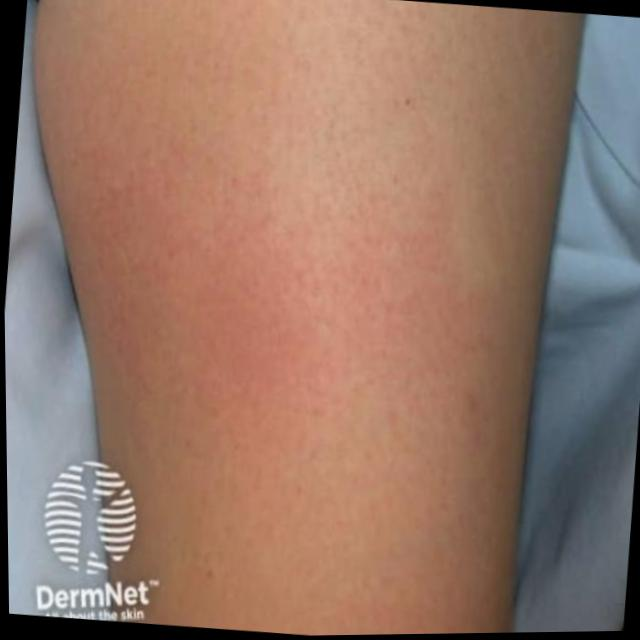Eczema: (83, 128, 530, 490)
